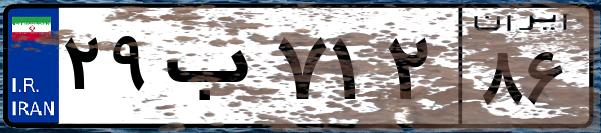1: (330, 28, 385, 110)
2: (385, 28, 445, 110), (57, 26, 110, 100)
6: (525, 38, 570, 115)
7: (270, 28, 330, 110)
8: (475, 38, 525, 113)
9: (110, 28, 158, 98)
ب: (158, 20, 270, 120)
